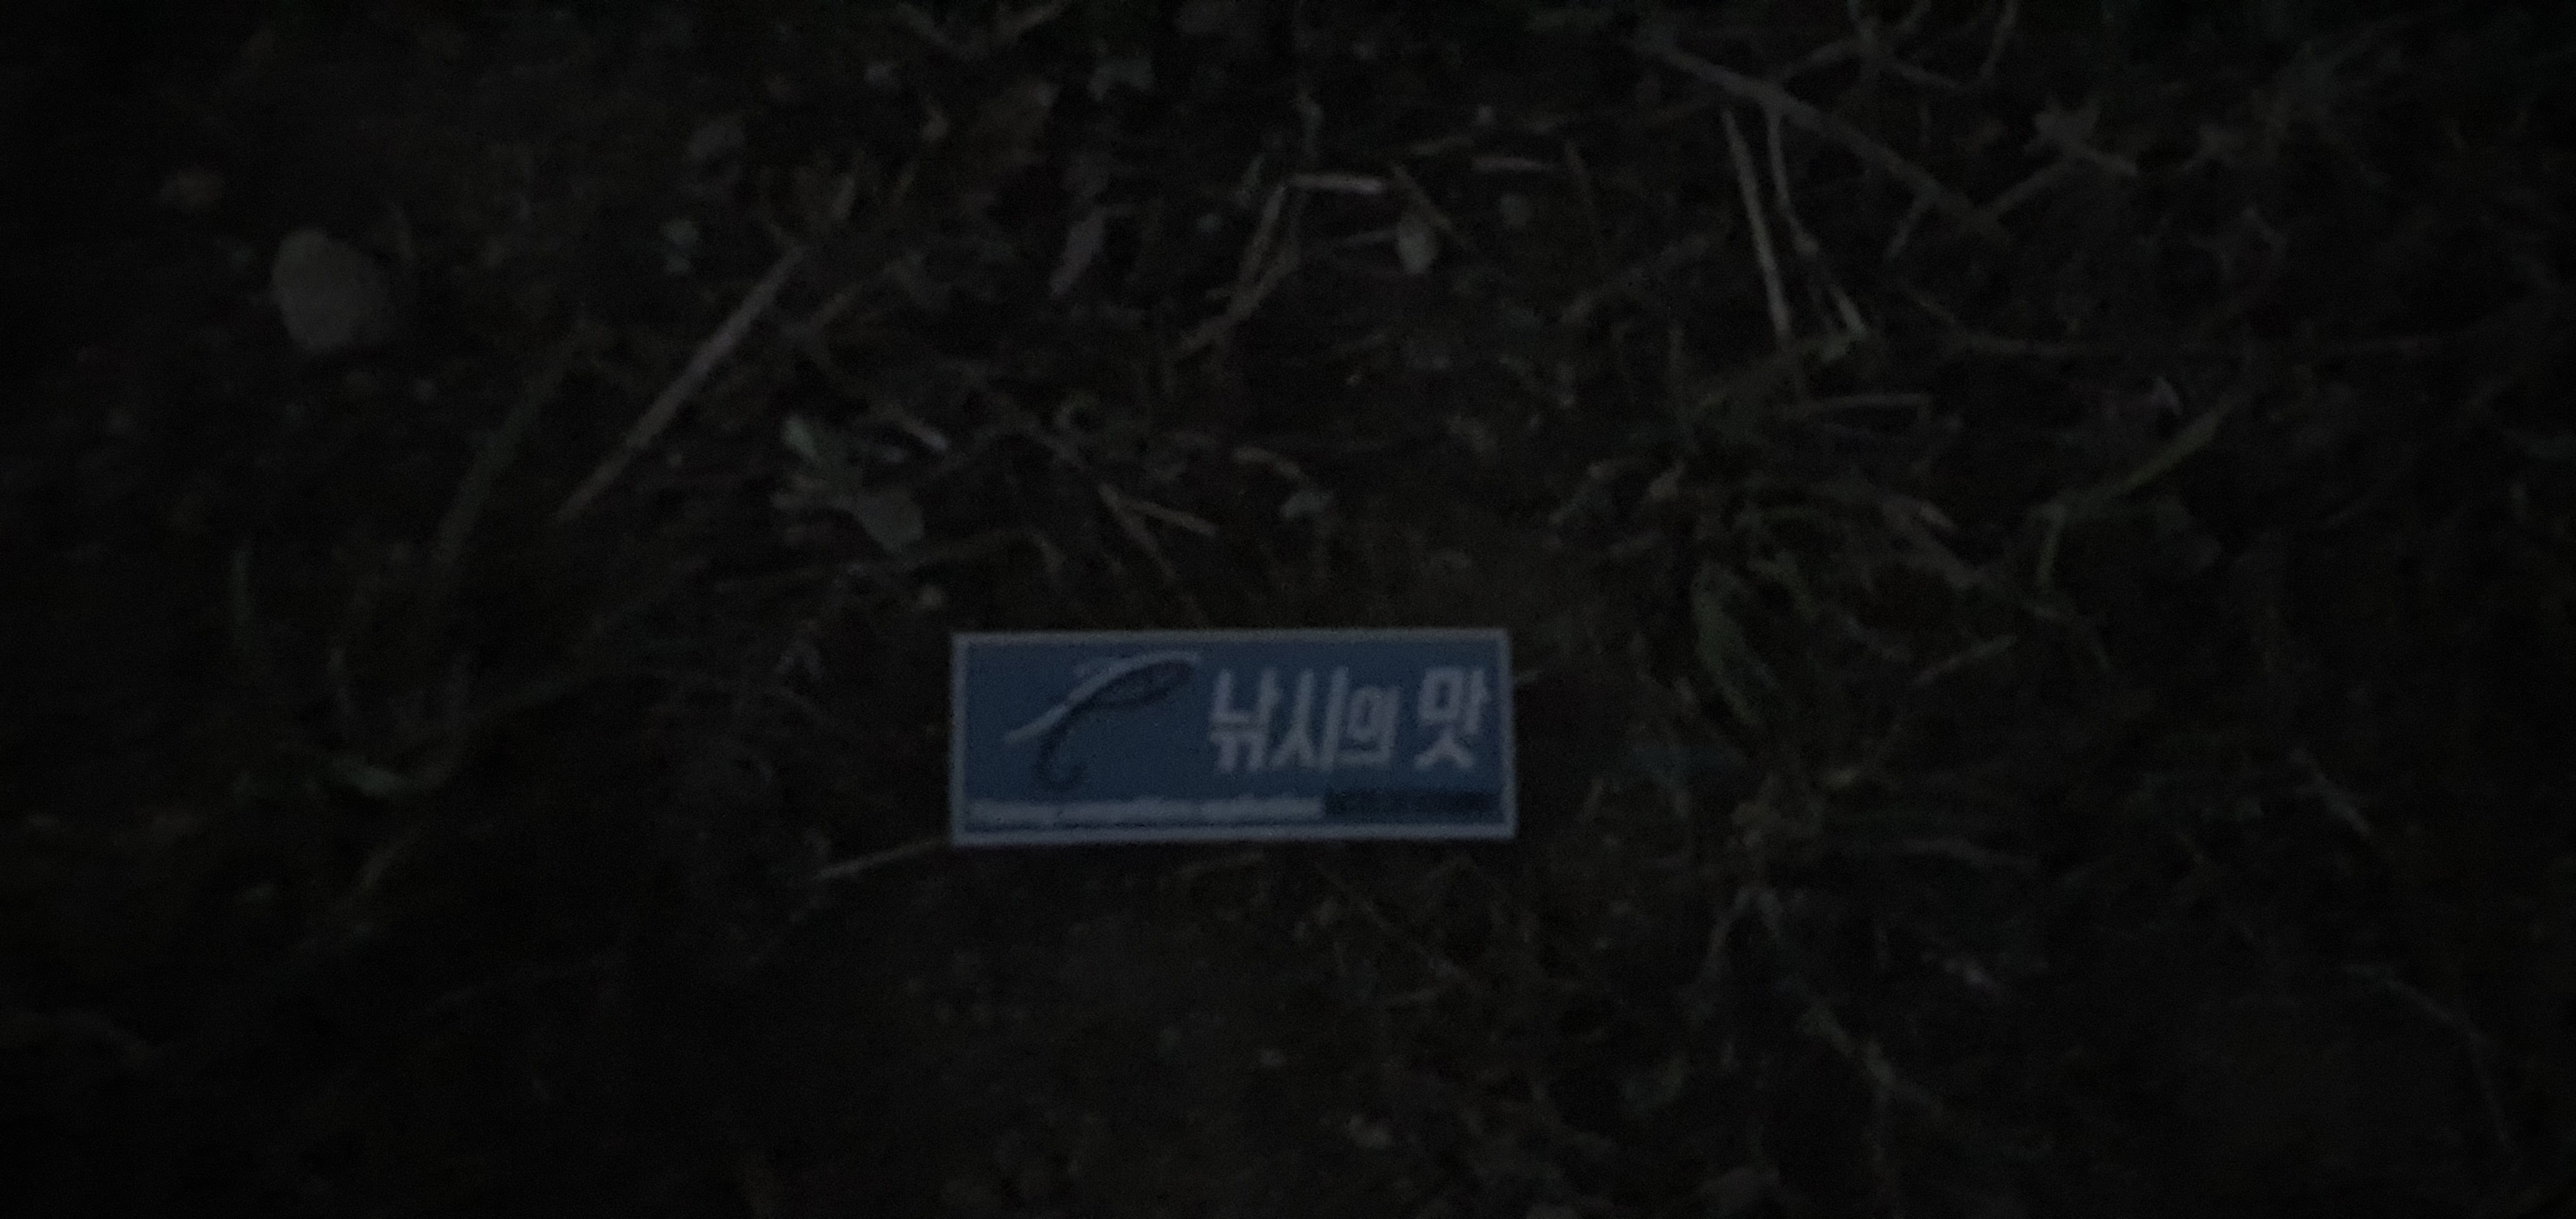tag: (951, 636, 1520, 849)
